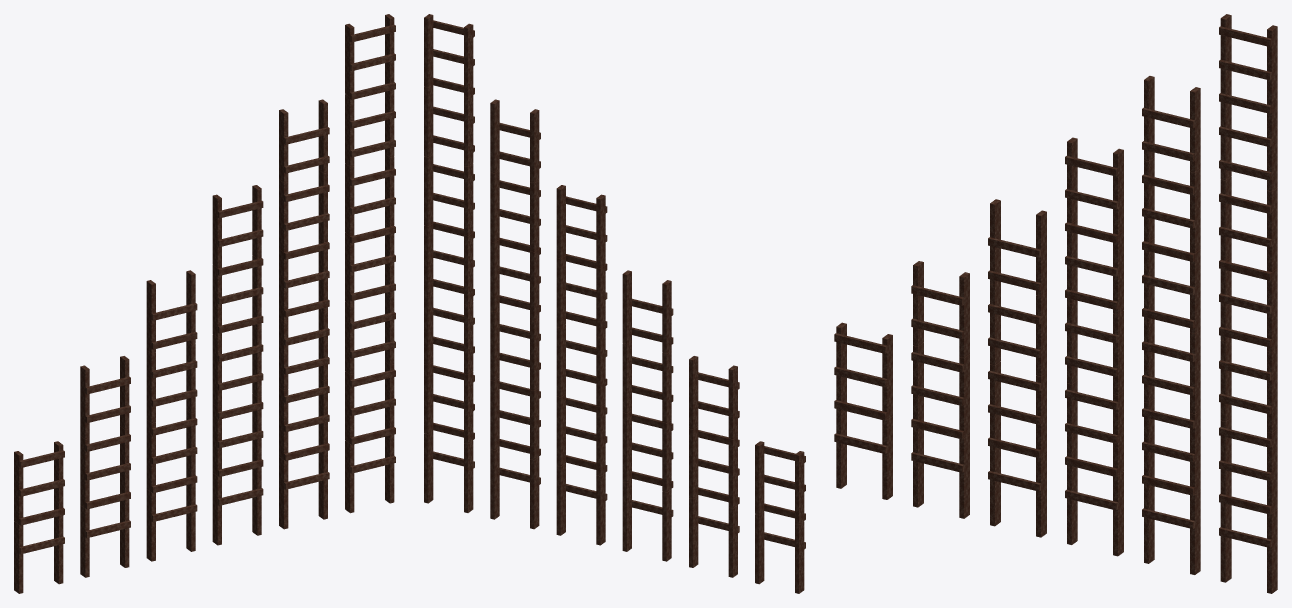
The model's file is Group Proj - Ladders.fbx.
The picture shows the model from 3 angles, left to right: view 1: azimuth 30°, elevation 25°; view 2: azimuth 150°, elevation 25°; view 3: azimuth 330°, elevation 25°; orthographic projection. The views are drawn at different scales.
Visible parts, largest first — view 1: Cube.010, Cube, Cube.011, Cube.002, Cube.001, Cube.004, Cube.003, Cube.006, Cube.005, Cube.008, Cube.007, Cube.009; view 2: Cube.010, Cube, Cube.002, Cube.004, Cube.011, Cube.006, Cube.001, Cube.003, Cube.008, Cube.005, Cube.007, Cube.009; view 3: Cube.010, Cube, Cube.011, Cube.002, Cube.001, Cube.004, Cube.003, Cube.006, Cube.005, Cube.008, Cube.007, Cube.009.
Boxes of the visible parts, left/top/right/bottom form: Cube.010: left=345, top=14, right=394, bottom=513; Cube: left=279, top=99, right=327, bottom=529; Cube.011: left=350, top=24, right=395, bottom=473; Cube.002: left=212, top=185, right=261, bottom=545; Cube.001: left=284, top=127, right=329, bottom=489; Cube.004: left=146, top=270, right=195, bottom=561; Cube.003: left=217, top=200, right=263, bottom=505; Cube.006: left=80, top=356, right=129, bottom=577; Cube.005: left=151, top=303, right=197, bottom=521; Cube.008: left=14, top=441, right=63, bottom=593; Cube.007: left=85, top=376, right=130, bottom=537; Cube.009: left=19, top=450, right=64, bottom=554; Cube.010: left=424, top=14, right=473, bottom=512; Cube: left=490, top=99, right=539, bottom=529; Cube.002: left=556, top=185, right=605, bottom=545; Cube.004: left=622, top=270, right=671, bottom=561; Cube.011: left=433, top=20, right=474, bottom=468; Cube.006: left=689, top=356, right=737, bottom=577; Cube.001: left=499, top=123, right=540, bottom=484; Cube.003: left=566, top=196, right=607, bottom=500; Cube.008: left=755, top=441, right=804, bottom=593; Cube.005: left=632, top=298, right=673, bottom=516; Cube.007: left=698, top=372, right=739, bottom=532; Cube.009: left=764, top=446, right=805, bottom=549; Cube.010: left=1220, top=14, right=1277, bottom=593; Cube: left=1144, top=76, right=1200, bottom=574; Cube.011: left=1219, top=26, right=1271, bottom=547; Cube.002: left=1067, top=137, right=1123, bottom=556; Cube.001: left=1142, top=107, right=1194, bottom=528; Cube.004: left=990, top=199, right=1046, bottom=537; Cube.003: left=1065, top=156, right=1117, bottom=510; Cube.006: left=913, top=261, right=969, bottom=518; Cube.005: left=988, top=237, right=1040, bottom=491; Cube.008: left=836, top=322, right=892, bottom=499; Cube.007: left=911, top=285, right=964, bottom=472; Cube.009: left=834, top=333, right=887, bottom=453.
Size of the model in its own units: 1700 by 2100 by 52.49.
1 material, 1 textured.
